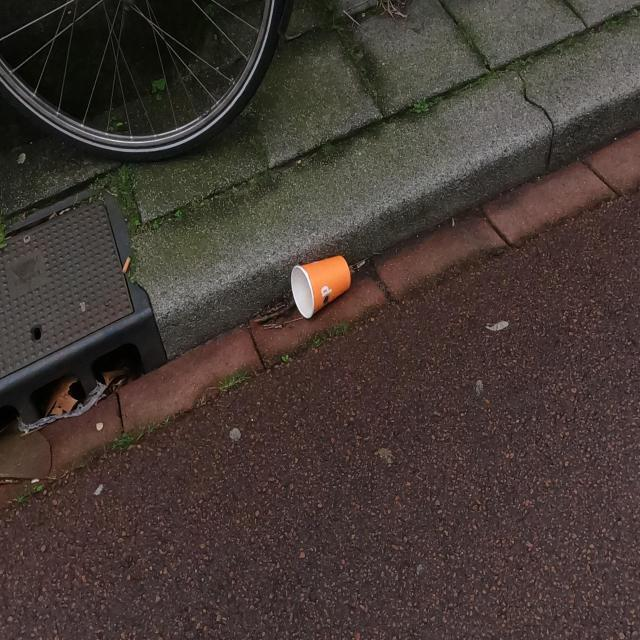Cup: (282, 247, 362, 321)
